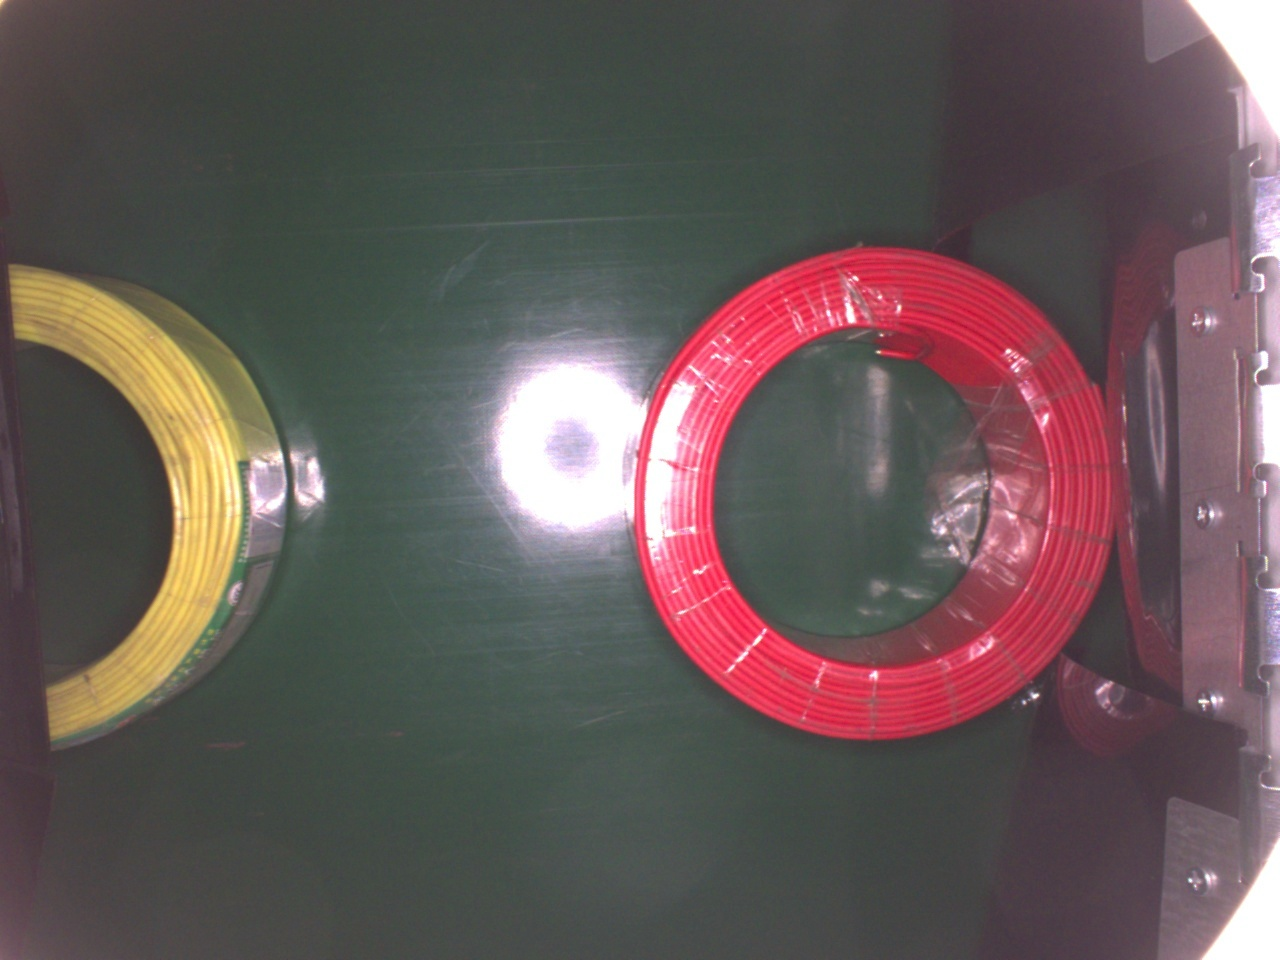red: (635, 244, 1118, 744)
yellow: (4, 256, 289, 750)
